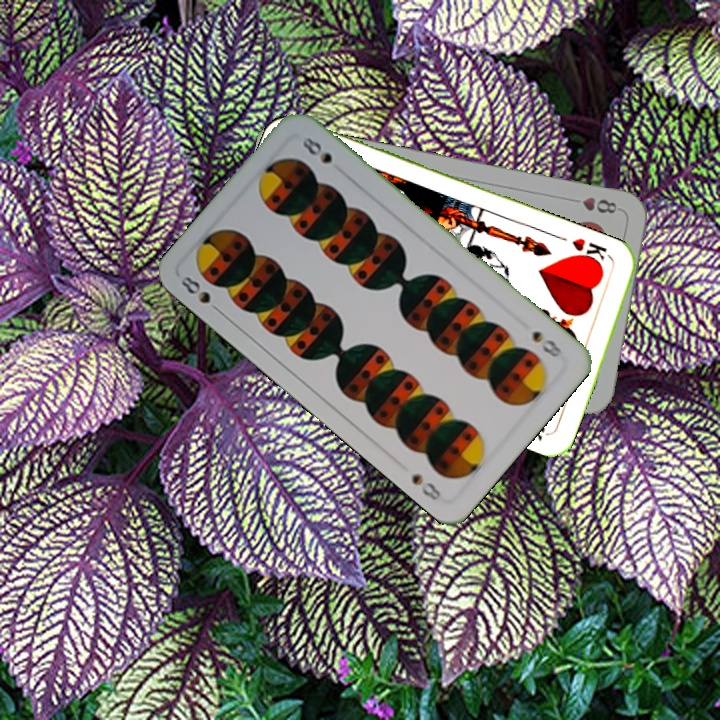H8: (565, 193, 620, 217)
HK: (567, 234, 616, 269)
S8: (176, 271, 225, 317), (528, 326, 566, 360)
